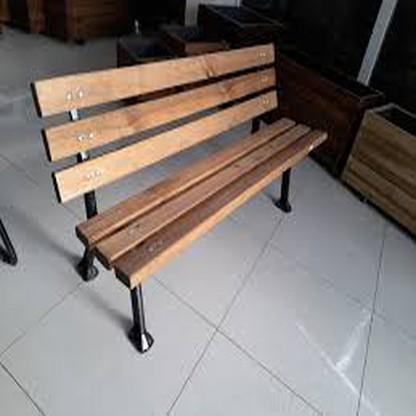obstacle: (26, 34, 318, 349)
